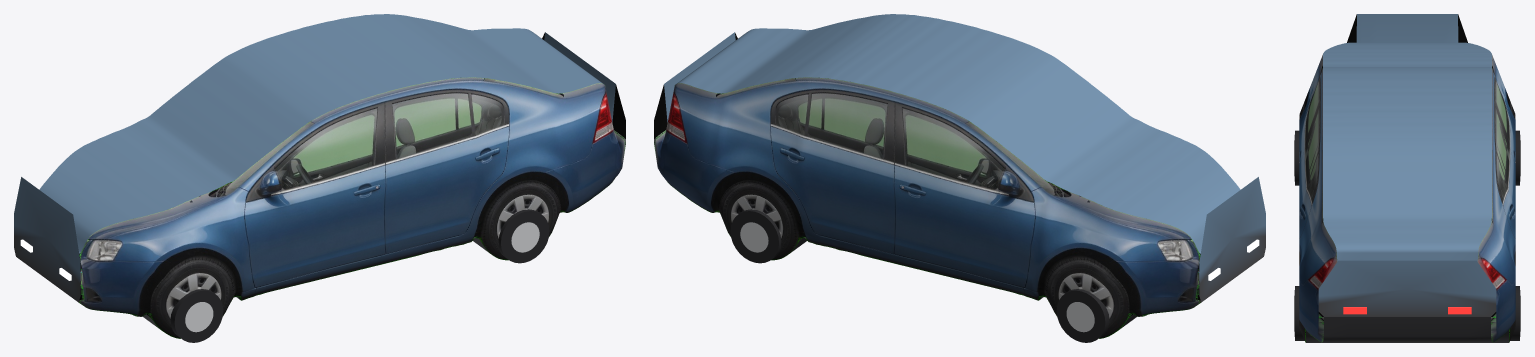
File: car.glb
3 renders of one model, left to right at view 1: azimuth 30°, elevation 25°; view 2: azimuth 150°, elevation 25°; view 3: azimuth 270°, elevation 25°, orthographic. The views are drawn at different scales.
Parts seen in each view (by area): view 1: car; view 2: car; view 3: car.
Boxes of the visible parts, box(x1,y1,x2,y2) form: car: box(14, 14, 625, 342); car: box(654, 14, 1265, 342); car: box(1294, 14, 1520, 342).
Size of the model in its own units: 3.53 by 1.2 by 1.32.
Materials: 8 (2 with a texture image).
